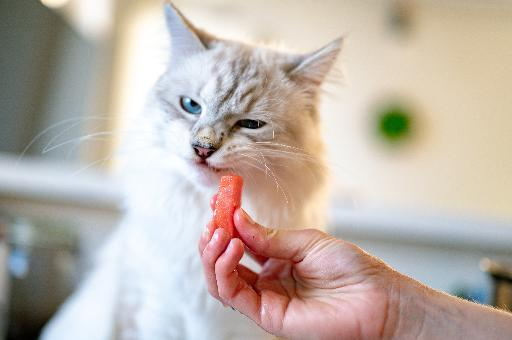cat_eating: (42, 2, 342, 340)
